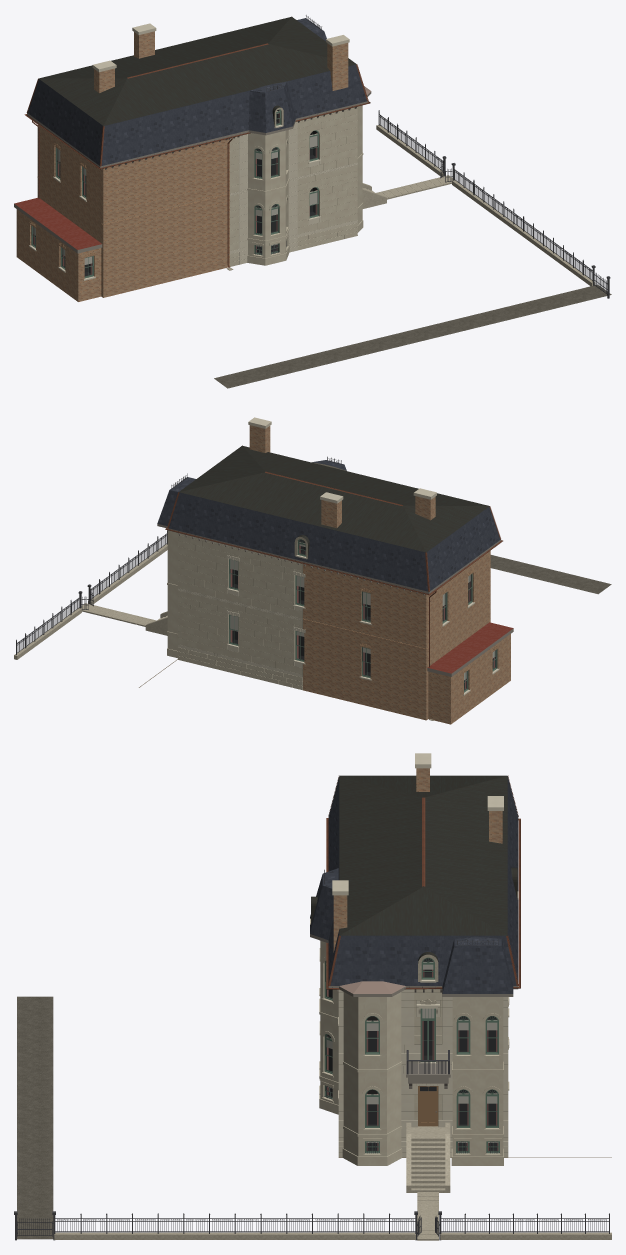
Rendered from house_2026_prairie__as_mapped_1904.glb.
The picture shows the model from 3 angles, top to bottom: view 1: azimuth 30°, elevation 25°; view 2: azimuth 150°, elevation 25°; view 3: azimuth 270°, elevation 25°; orthographic projection. The views are drawn at different scales.
Visible parts, largest first — view 1: house_2026_prairie__as_mapped_1904; view 2: house_2026_prairie__as_mapped_1904; view 3: house_2026_prairie__as_mapped_1904.
Boxes of the visible parts, bbox=[...] form: house_2026_prairie__as_mapped_1904: bbox=[14, 15, 611, 388]; house_2026_prairie__as_mapped_1904: bbox=[14, 417, 611, 724]; house_2026_prairie__as_mapped_1904: bbox=[14, 753, 611, 1240].
Size of the model in its own units: 36.18 by 17.13 by 35.4.
Materials: 28 (17 with a texture image).
